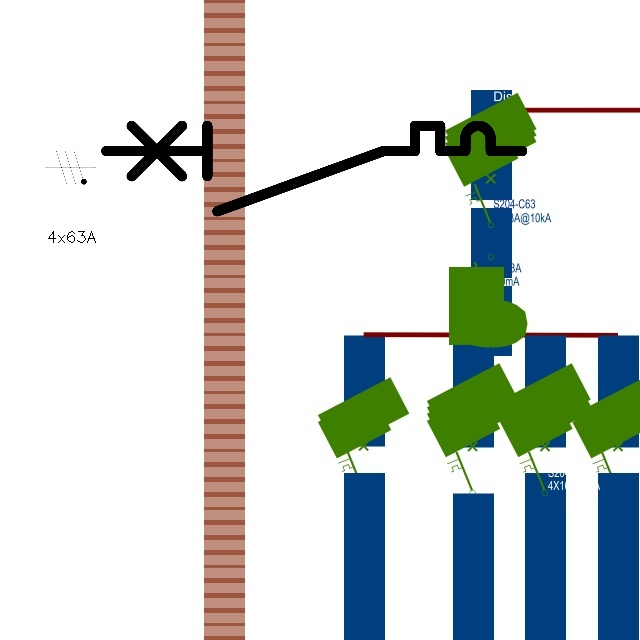interruptor_termomagnetico: (95, 115, 532, 222)
